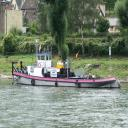tugboat: (13, 40, 123, 93)
